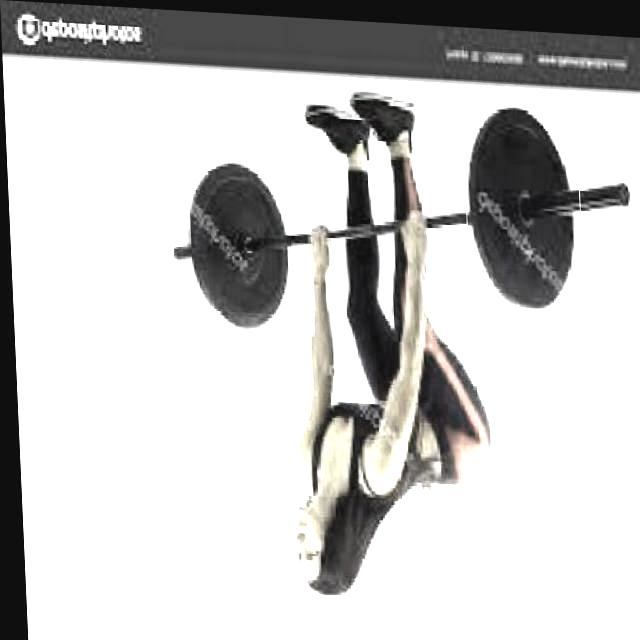barbell: (462, 93, 585, 322)
